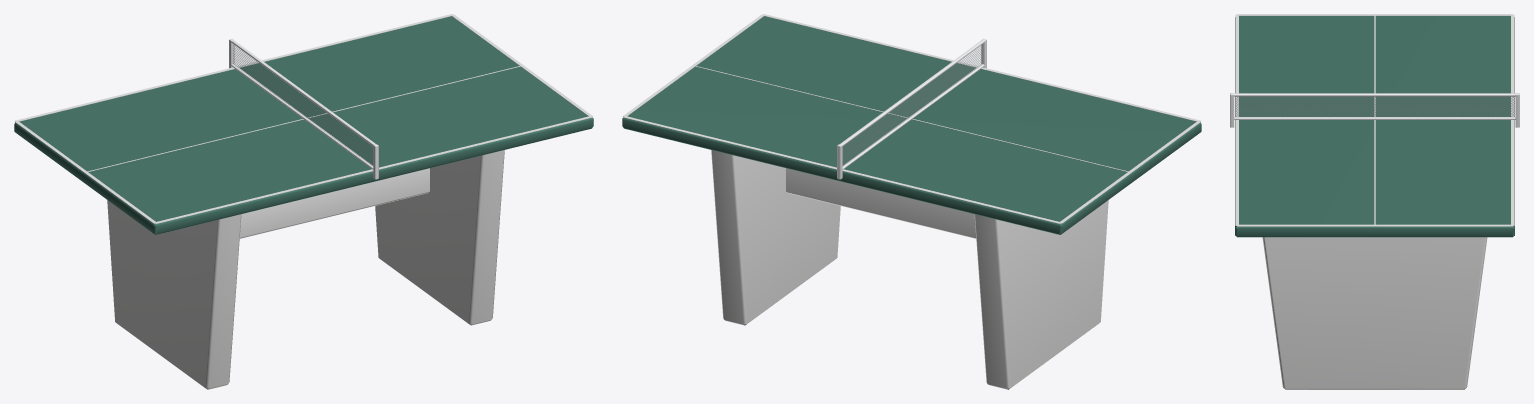
Rendered from tischtennisplatte.glb.
3 renders of one model, left to right at view 1: azimuth 30°, elevation 25°; view 2: azimuth 150°, elevation 25°; view 3: azimuth 270°, elevation 25°, orthographic.
Parts seen in each view (by area): view 1: tischtennisplatte_tt_top, tischtennisplatte_concrete, tischtennisplatte_paint_white, tischtennisplatte_mesh_steel, tischtennisplatte_steel_galv; view 2: tischtennisplatte_tt_top, tischtennisplatte_concrete, tischtennisplatte_paint_white, tischtennisplatte_mesh_steel, tischtennisplatte_steel_galv; view 3: tischtennisplatte_tt_top, tischtennisplatte_concrete, tischtennisplatte_mesh_steel, tischtennisplatte_paint_white, tischtennisplatte_steel_galv.
Boxes of the visible parts, box(x1,y1,x2,y2) form: tischtennisplatte_tt_top: box(14, 16, 593, 234); tischtennisplatte_concrete: box(107, 150, 504, 389); tischtennisplatte_paint_white: box(14, 14, 593, 223); tischtennisplatte_mesh_steel: box(233, 45, 373, 166); tischtennisplatte_steel_galv: box(229, 38, 378, 179); tischtennisplatte_tt_top: box(622, 16, 1201, 234); tischtennisplatte_concrete: box(711, 150, 1108, 389); tischtennisplatte_paint_white: box(622, 14, 1201, 223); tischtennisplatte_mesh_steel: box(842, 45, 982, 165); tischtennisplatte_steel_galv: box(837, 38, 986, 179); tischtennisplatte_tt_top: box(1235, 16, 1514, 237); tischtennisplatte_concrete: box(1262, 237, 1487, 389); tischtennisplatte_mesh_steel: box(1235, 97, 1514, 117); tischtennisplatte_paint_white: box(1235, 14, 1514, 226); tischtennisplatte_steel_galv: box(1230, 93, 1519, 127).
Size of the model in its own units: 2.74 by 1.37 by 1.58.
5 materials, 1 textured.
